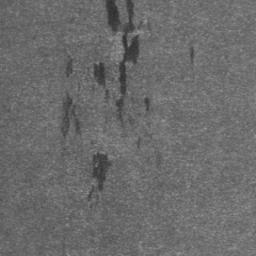Iron scale compression: (106, 0, 139, 123), (90, 153, 113, 203), (62, 93, 81, 138), (94, 62, 104, 88), (65, 59, 75, 76), (145, 99, 152, 113), (104, 91, 109, 104)
